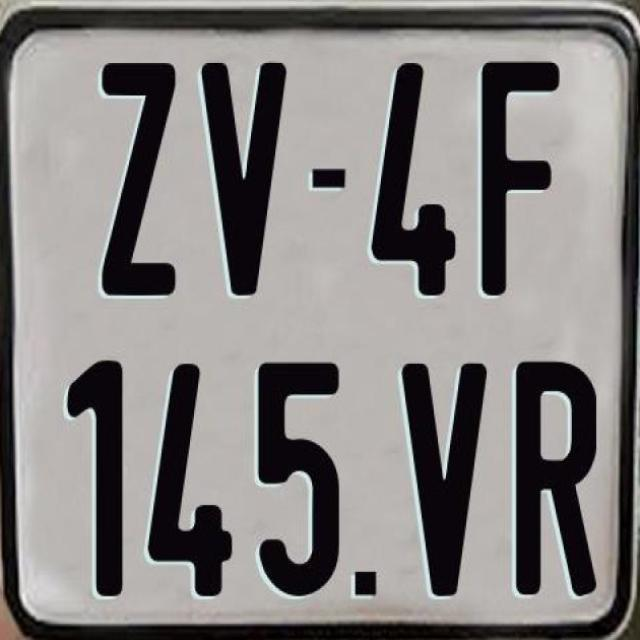license-plate: (0, 6, 640, 640), (11, 15, 379, 375), (379, 364, 571, 550)
